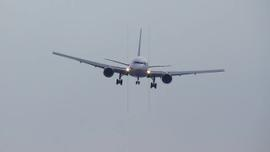aircraft: (53, 26, 225, 89)
